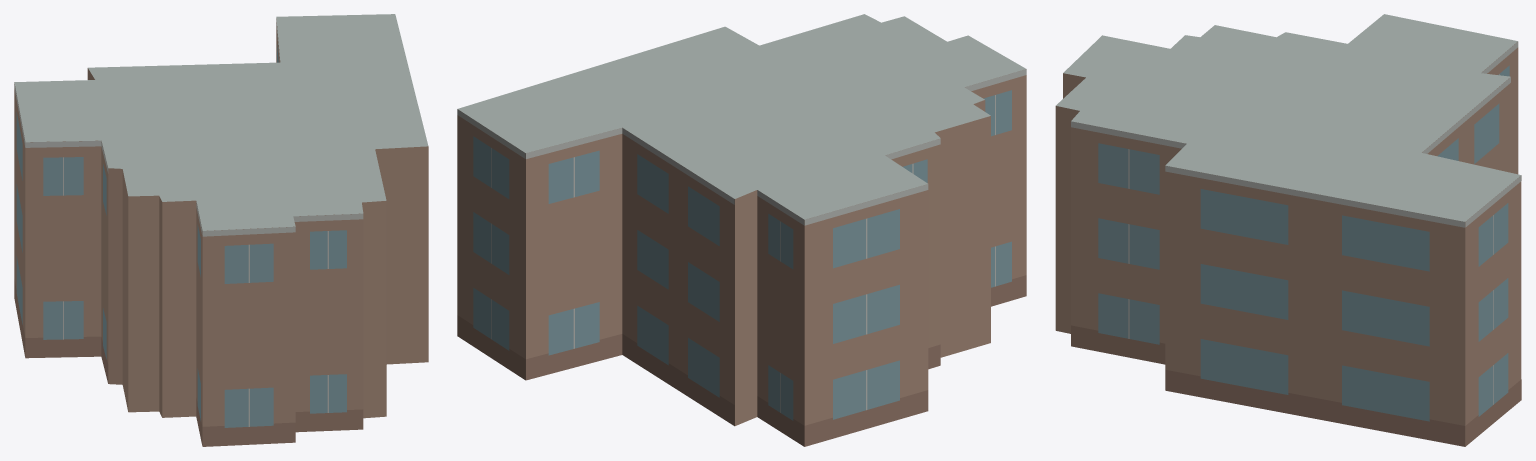
The model's file is survey-upis-32497322.glb.
The picture shows the model from 3 angles, left to right: view 1: azimuth 30°, elevation 25°; view 2: azimuth 150°, elevation 25°; view 3: azimuth 270°, elevation 25°; orthographic projection. The views are drawn at different scales.
Visible parts, largest first — view 1: survey-upis-32497322.tmp; view 2: survey-upis-32497322.tmp; view 3: survey-upis-32497322.tmp.
Boxes of the visible parts, x1=… form: survey-upis-32497322.tmp: x1=14, y1=14, x2=428, y2=446; survey-upis-32497322.tmp: x1=457, y1=14, x2=1026, y2=446; survey-upis-32497322.tmp: x1=1055, y1=14, x2=1521, y2=446.
Bounding box in the file's own units: 18.34 × 9.25 × 17.37.
